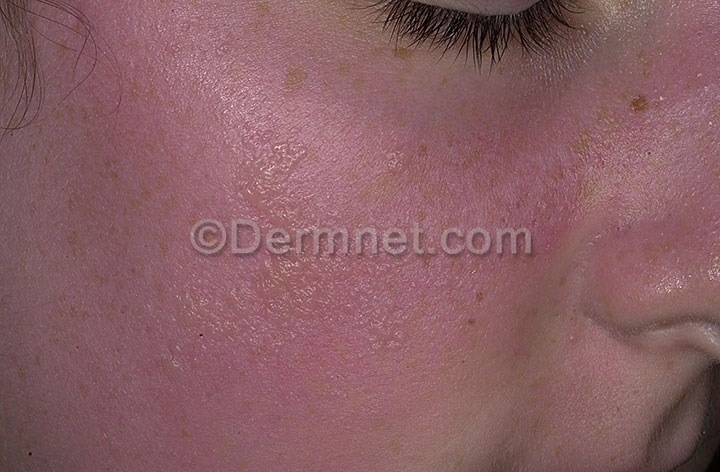Melasma: (384, 0, 720, 165), (229, 99, 345, 224), (250, 256, 346, 334), (169, 270, 248, 352), (139, 323, 232, 390), (358, 279, 421, 371), (382, 38, 456, 85), (276, 56, 329, 92)
